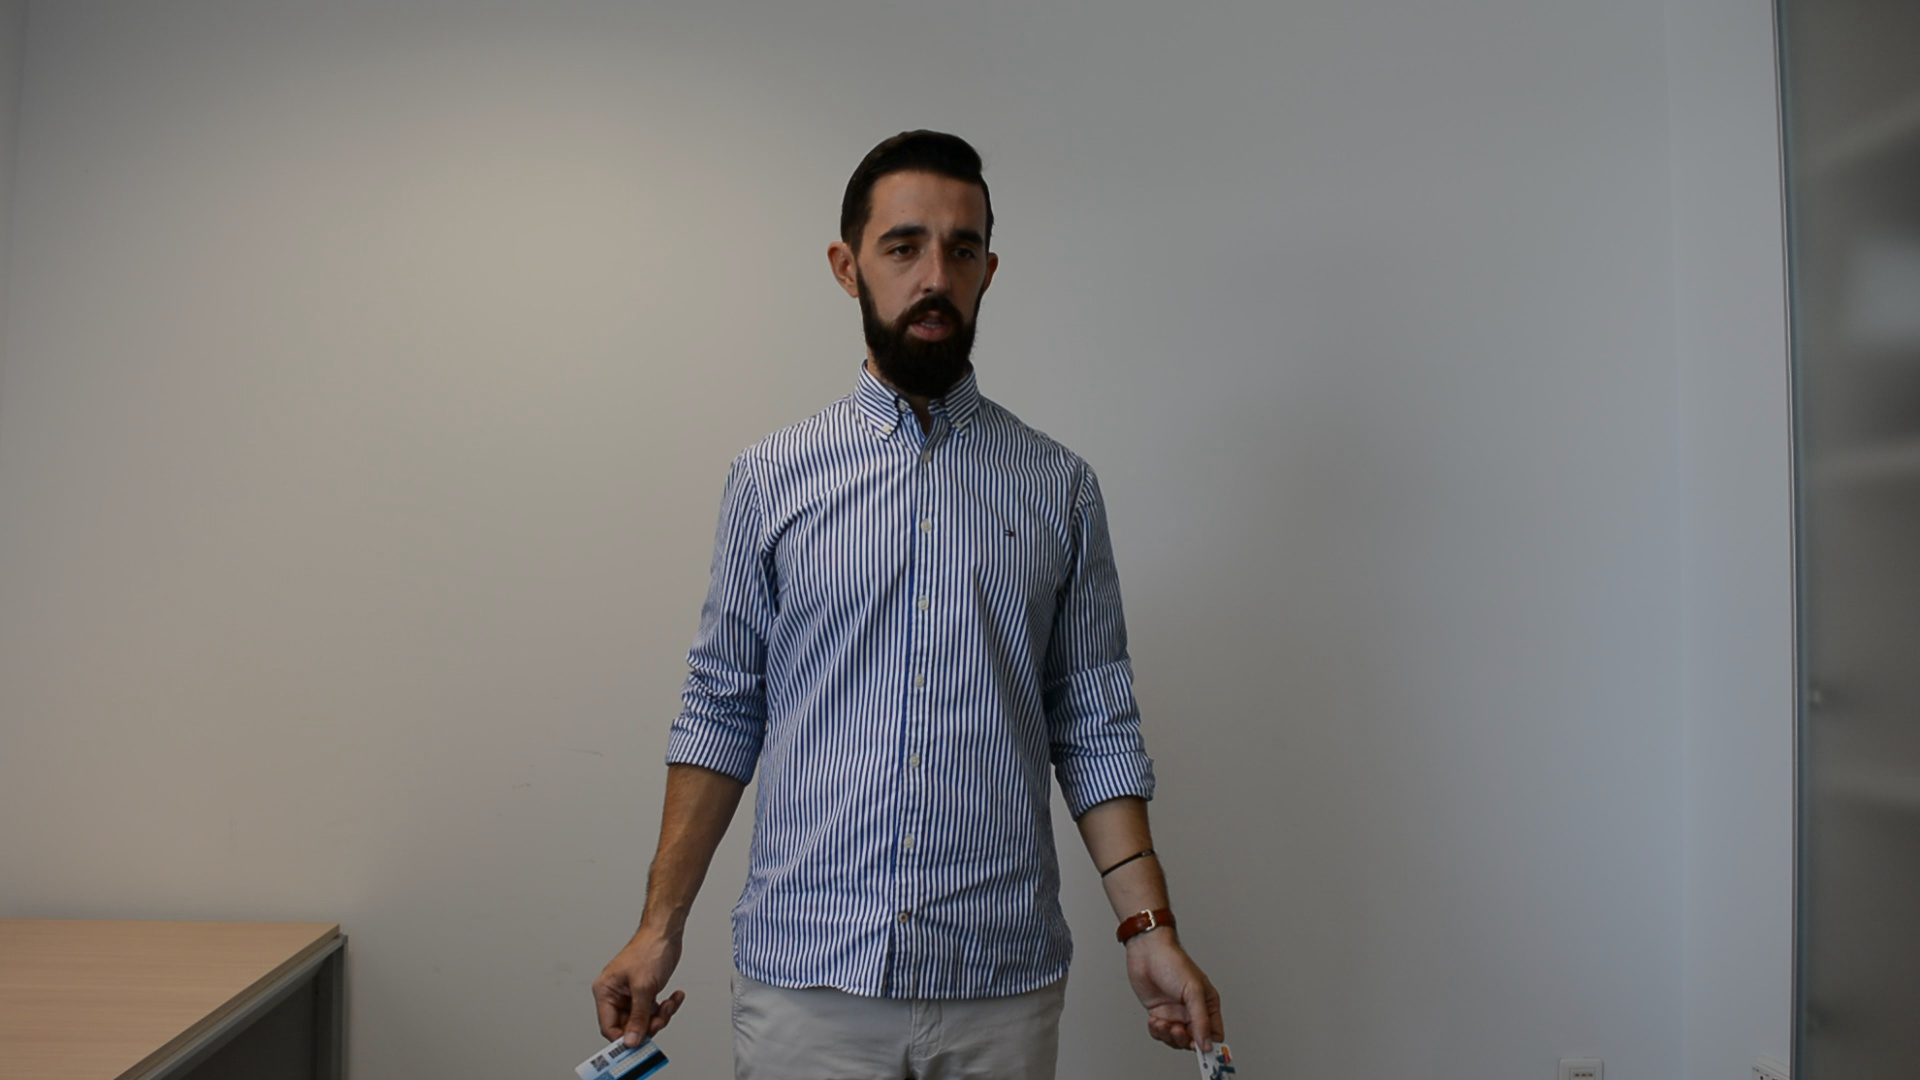tarjeta: (574, 1029, 674, 1080), (1191, 1036, 1245, 1080)
